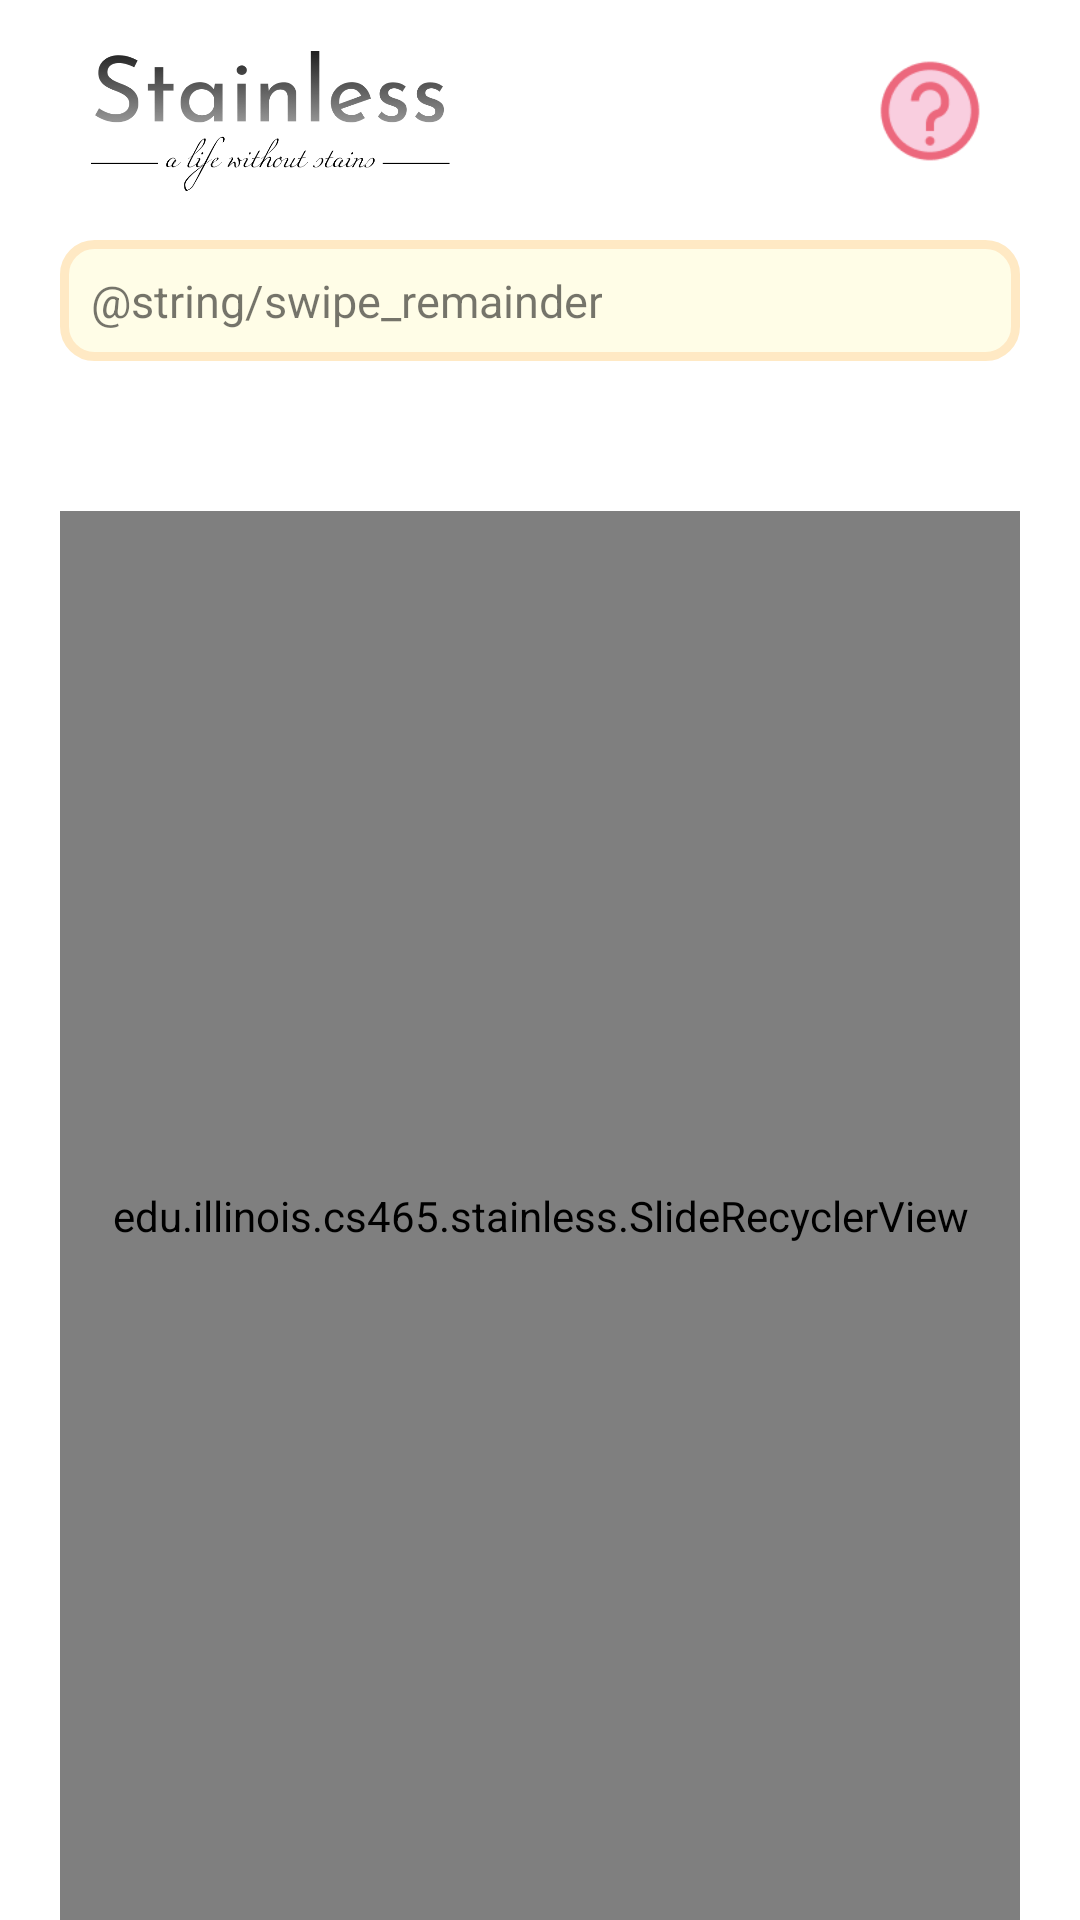

Point at icon controls on the screen. Image size 1080 x 1920, points as [x,y].
question: [930,111]
